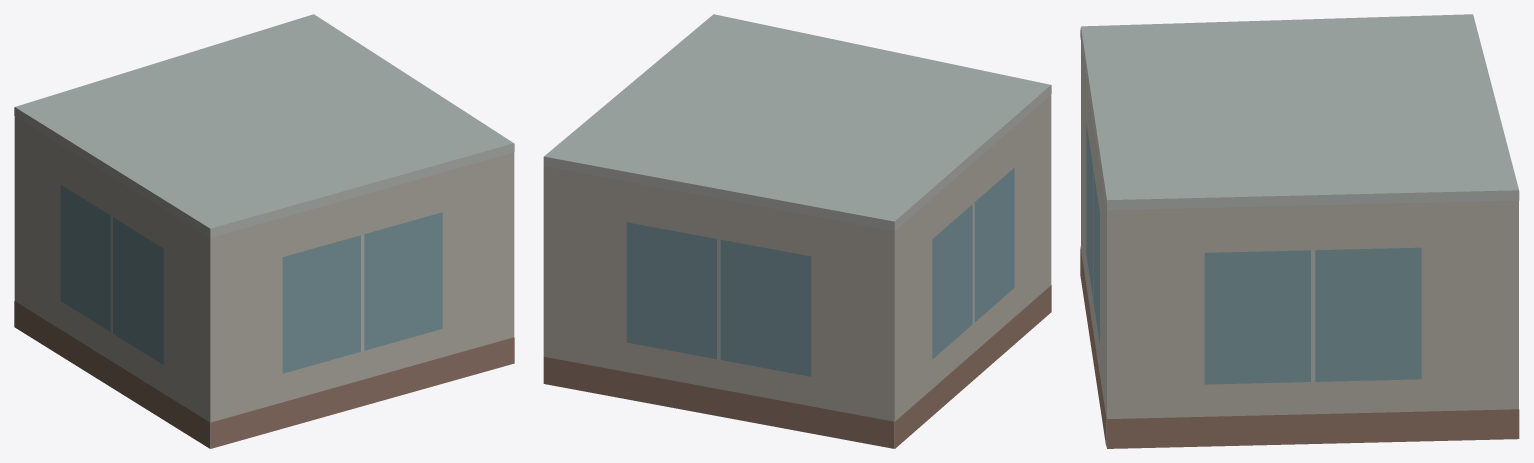
Rendered from survey-upis-32600963.glb.
3 renders of one model, left to right at view 1: azimuth 30°, elevation 25°; view 2: azimuth 150°, elevation 25°; view 3: azimuth 270°, elevation 25°, orthographic. The views are drawn at different scales.
Parts seen in each view (by area): view 1: survey-upis-32600963.tmp; view 2: survey-upis-32600963.tmp; view 3: survey-upis-32600963.tmp.
Part boxes in pixels (bbox=[...]): survey-upis-32600963.tmp: bbox=[14, 14, 514, 448]; survey-upis-32600963.tmp: bbox=[543, 14, 1051, 448]; survey-upis-32600963.tmp: bbox=[1080, 14, 1519, 448].
Bounding box in the file's own units: 4.91 × 3.05 × 4.89.
